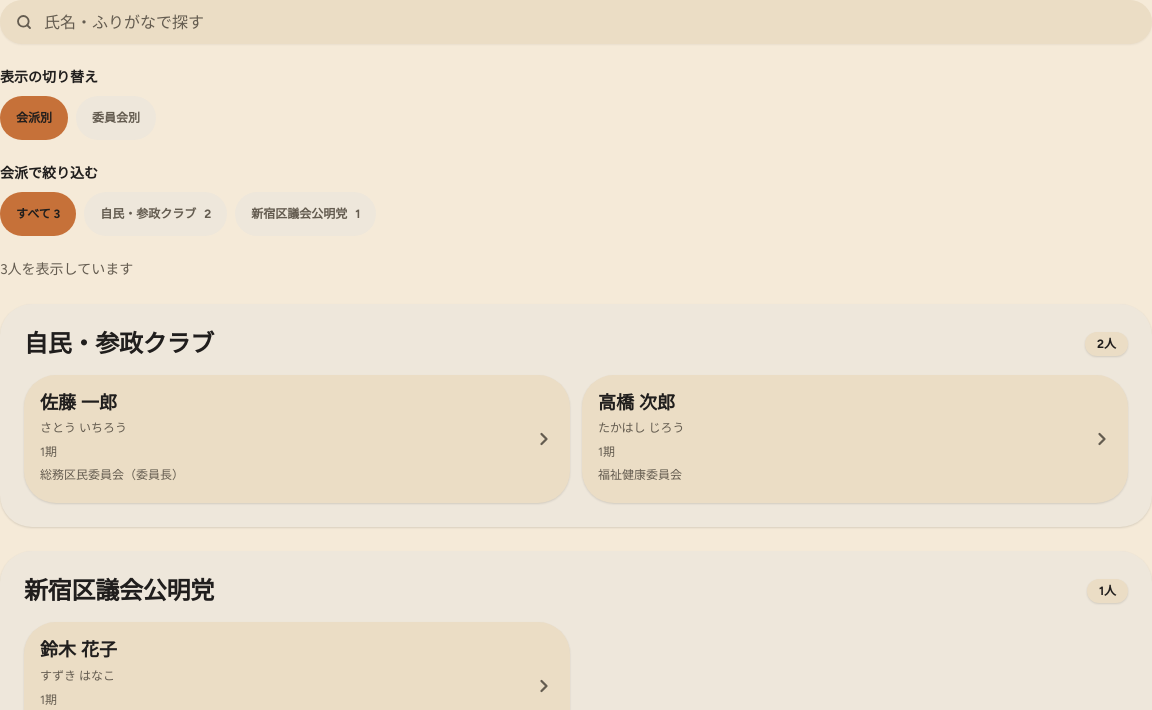
CouncilorListView › 該当する議員がいなければメッセージを出す
The image size is (1152, 710).
Click the button "委員会別" at (116, 118), box x1=76 y1=96 x2=156 y2=140
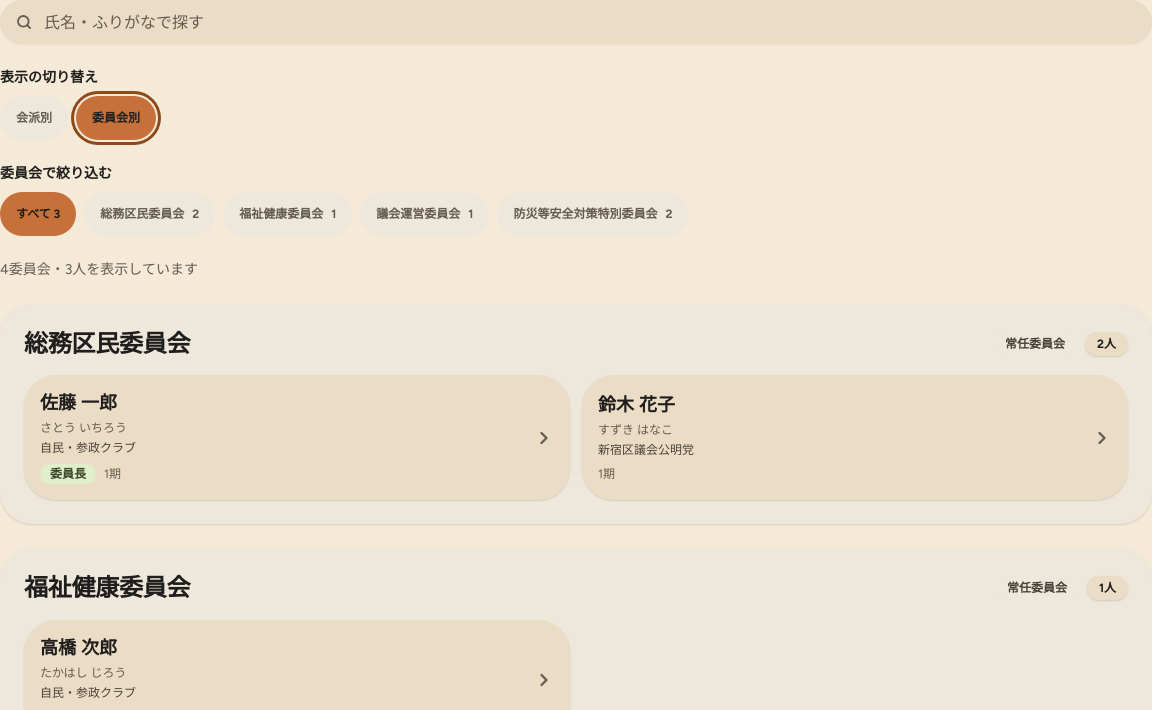
Type "該当なし" into the search field at (576, 22), box x1=0 y1=0 x2=1151 y2=44
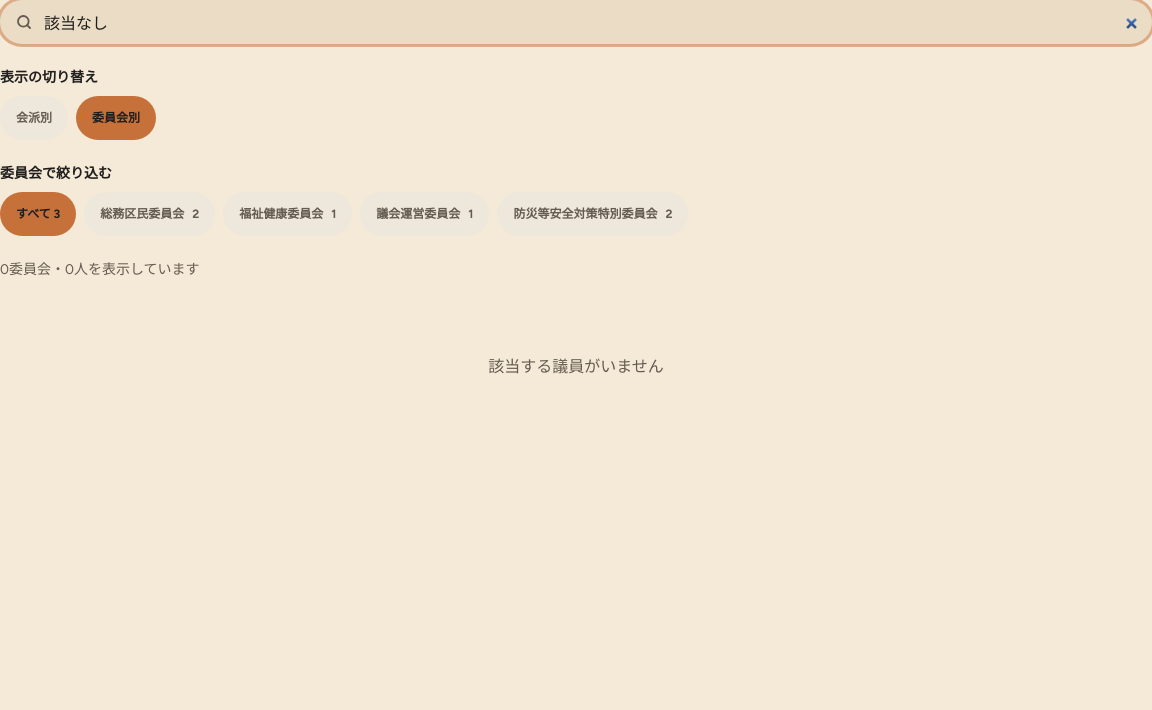
Expected: the text "該当する議員がいません" is shown, x1=488 y1=357 x2=664 y2=376
